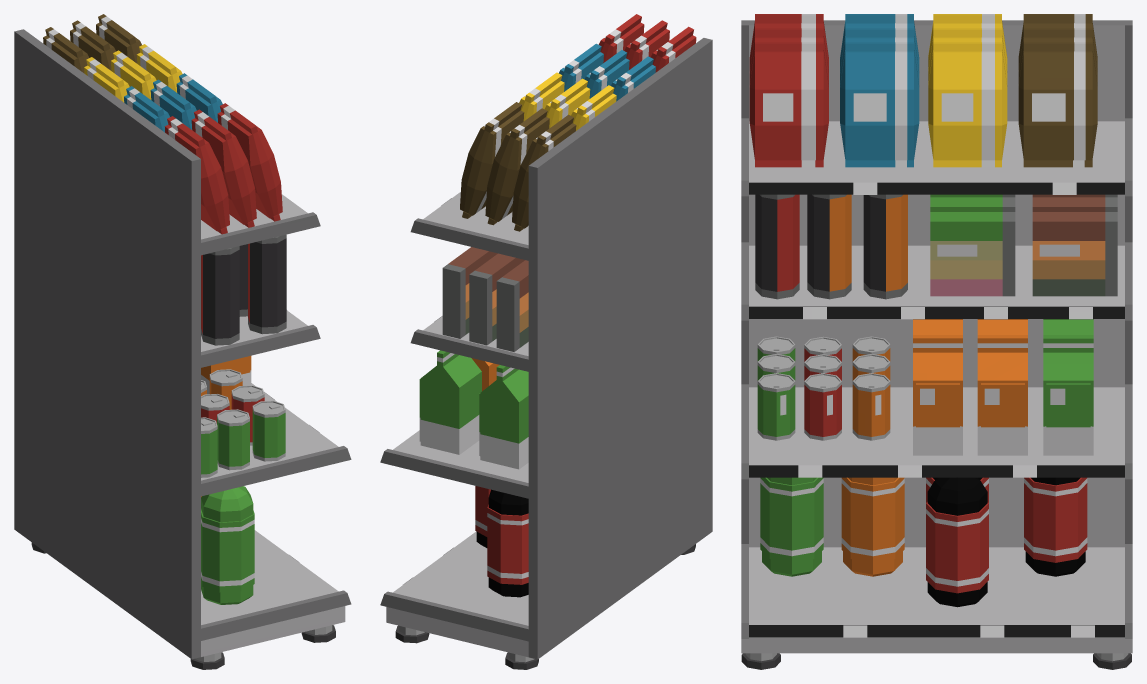
Rendered from SM_shopShelve_07.glb.
The picture shows the model from 3 angles, left to right: view 1: azimuth 30°, elevation 25°; view 2: azimuth 150°, elevation 25°; view 3: azimuth 270°, elevation 25°; orthographic projection. The views are drawn at different scales.
Parts seen in each view (by area): view 1: SM_shopShelve_07; view 2: SM_shopShelve_07; view 3: SM_shopShelve_07.
Part boxes in pixels (x1,y1,x2,y2): SM_shopShelve_07: (14,14,351,669); SM_shopShelve_07: (380,14,712,669); SM_shopShelve_07: (741,14,1132,669).
Size of the model in its own units: 0.52 by 1.64 by 1.
Materials: 1 (1 with a texture image).
